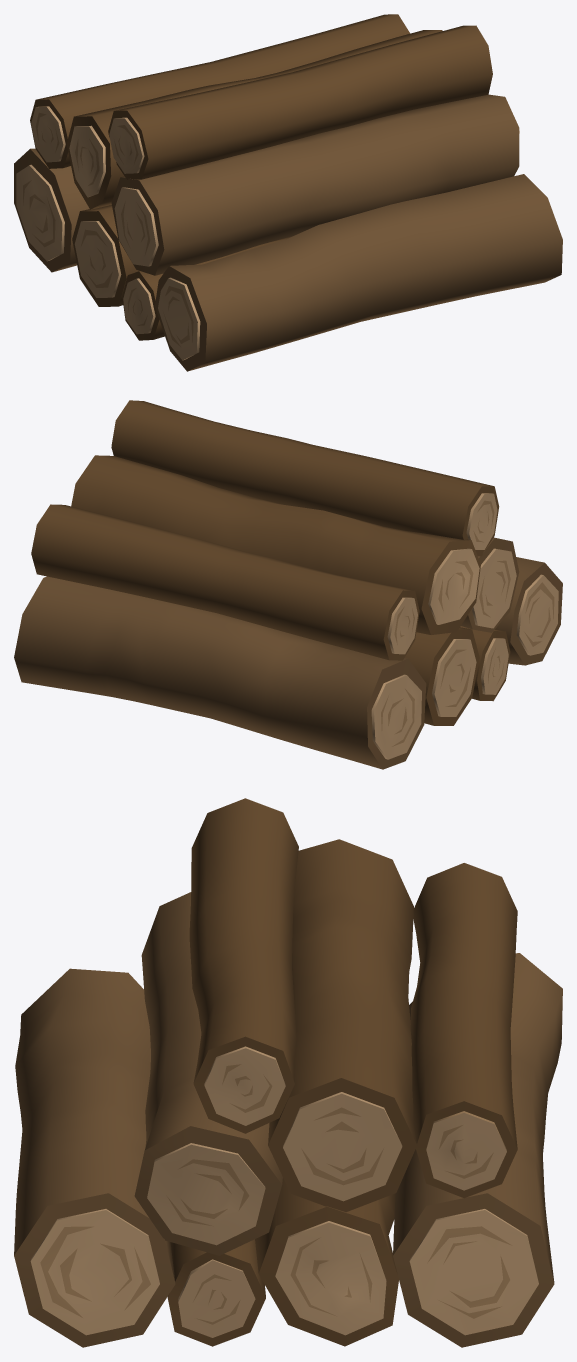
Rendered from SM_Prop_Logs_01.obj.
3 views of the same model, one above another, from view 1: azimuth 30°, elevation 25°; view 2: azimuth 150°, elevation 25°; view 3: azimuth 270°, elevation 25° (orthographic). The views are drawn at different scales.
Parts seen in each view (by area): view 1: SM_Prop_Logs_01_Mat_SwatchOverlay_Farm_01_Wood_Inst, SM_Prop_Logs_01_Mat_SwatchOverlay_Farm_01_Inst; view 2: SM_Prop_Logs_01_Mat_SwatchOverlay_Farm_01_Wood_Inst, SM_Prop_Logs_01_Mat_SwatchOverlay_Farm_01_Inst; view 3: SM_Prop_Logs_01_Mat_SwatchOverlay_Farm_01_Wood_Inst, SM_Prop_Logs_01_Mat_SwatchOverlay_Farm_01_Inst.
Part boxes in pixels (box(x1,y1,x2,y2)): SM_Prop_Logs_01_Mat_SwatchOverlay_Farm_01_Wood_Inst: box(14, 14, 562, 371); SM_Prop_Logs_01_Mat_SwatchOverlay_Farm_01_Inst: box(16, 107, 197, 360); SM_Prop_Logs_01_Mat_SwatchOverlay_Farm_01_Wood_Inst: box(14, 400, 562, 769); SM_Prop_Logs_01_Mat_SwatchOverlay_Farm_01_Inst: box(374, 493, 558, 759); SM_Prop_Logs_01_Mat_SwatchOverlay_Farm_01_Wood_Inst: box(14, 798, 562, 1347); SM_Prop_Logs_01_Mat_SwatchOverlay_Farm_01_Inst: box(30, 1048, 538, 1337).
Size of the model in its own units: 1.27 by 0.717 by 1.15.
2 materials, 2 textured.
